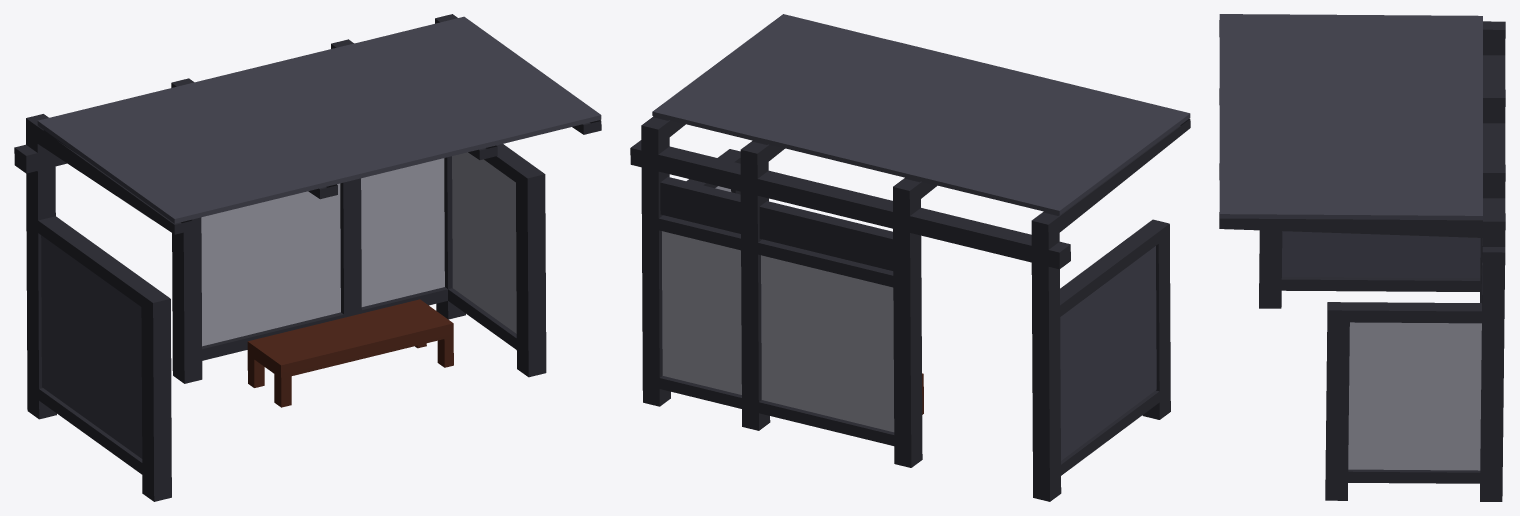
Rendered from BusStop.fbx.
The picture shows the model from 3 angles, left to right: view 1: azimuth 30°, elevation 25°; view 2: azimuth 150°, elevation 25°; view 3: azimuth 270°, elevation 25°; orthographic projection. The views are drawn at different scales.
Visible parts, largest first — view 1: Object002; view 2: Object002; view 3: Object002.
Part boxes in pixels (left/top/right/bottom): Object002: left=14, top=14, right=601, bottom=501; Object002: left=630, top=14, right=1190, bottom=501; Object002: left=1219, top=14, right=1505, bottom=501.
Bounding box in the file's own units: 505 × 321 × 289.
Materials: 4 (3 with a texture image).
